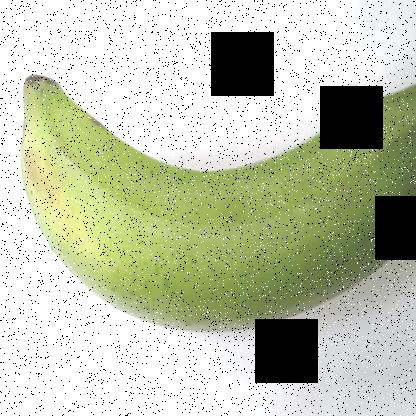freshunripe: (3, 56, 415, 344)
